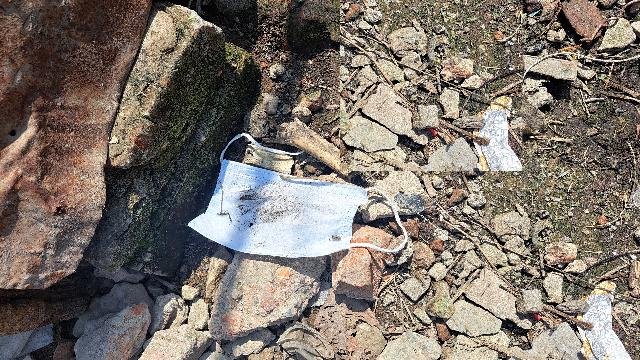mask: (184, 151, 375, 269)
